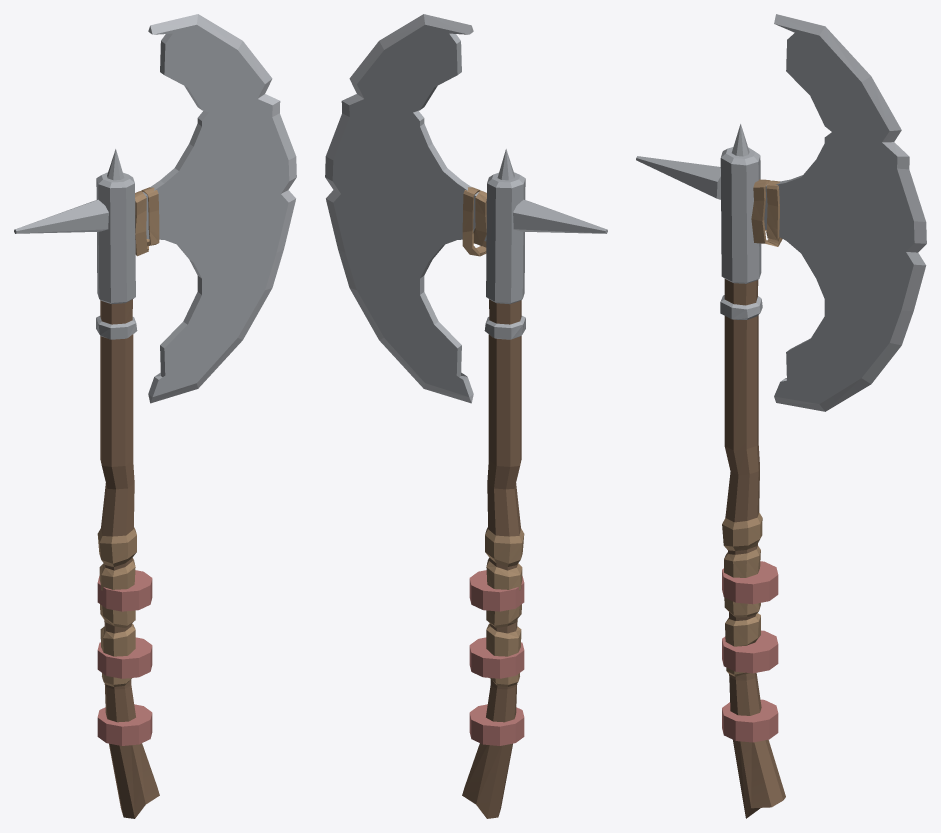
The model's file is hacha_hierro.glb.
3 renders of one model, left to right at view 1: azimuth 30°, elevation 25°; view 2: azimuth 150°, elevation 25°; view 3: azimuth 330°, elevation 25°, orthographic. The views are drawn at different scales.
Parts seen in each view (by area): view 1: hacha_hierro; view 2: hacha_hierro; view 3: hacha_hierro.
Part boxes in pixels (<box>): hacha_hierro: <box>14,14,296,818</box>; hacha_hierro: <box>325,14,607,818</box>; hacha_hierro: <box>636,14,926,818</box>.
Size of the model in its own units: 1.97 by 5.26 by 0.34.
